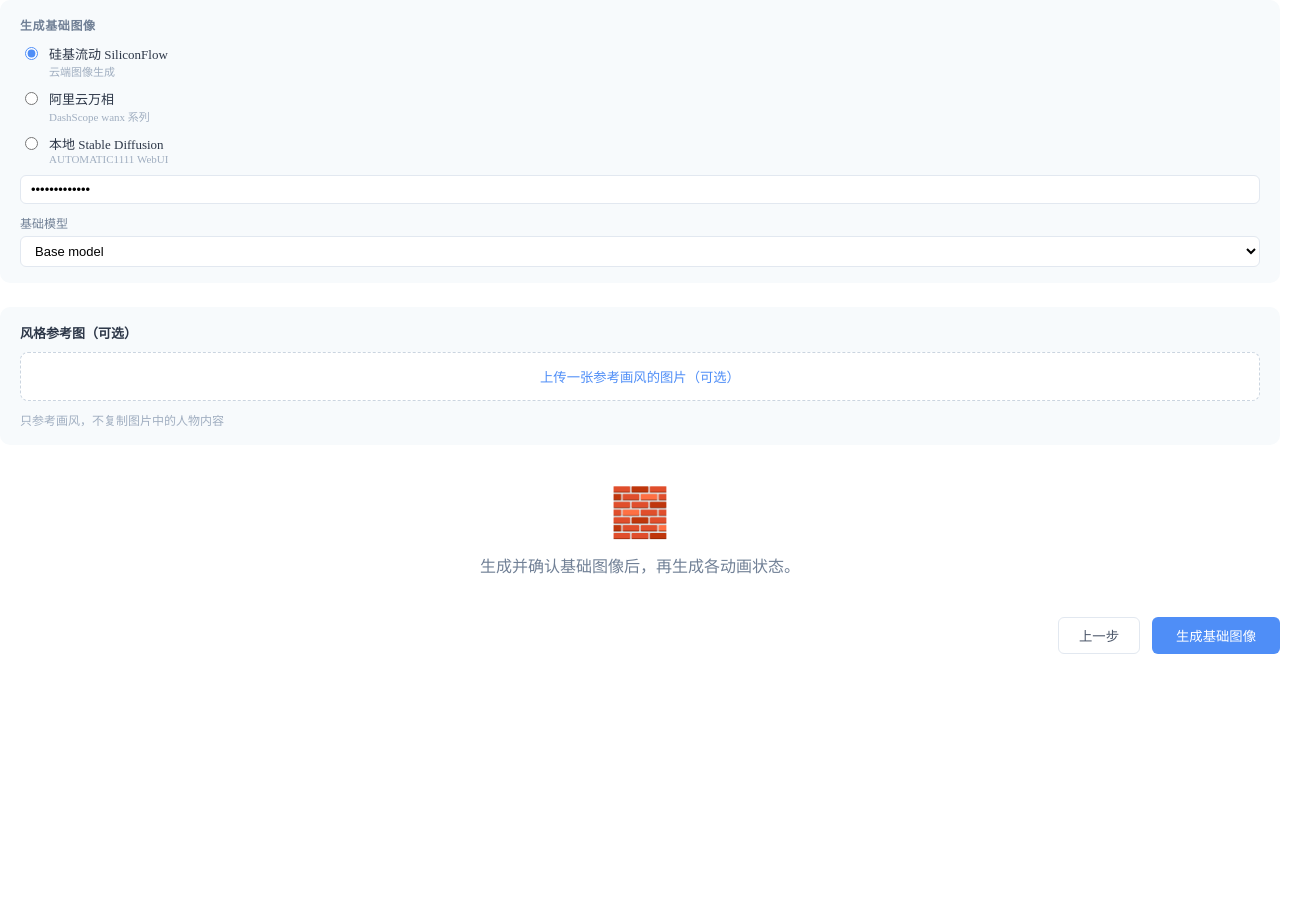
Test: GenerateStep › keeps the error visible and does not use a fallback command
The image size is (1292, 900).
Click the button "生成基础图像": (1216, 636) [1152, 617, 1280, 654]
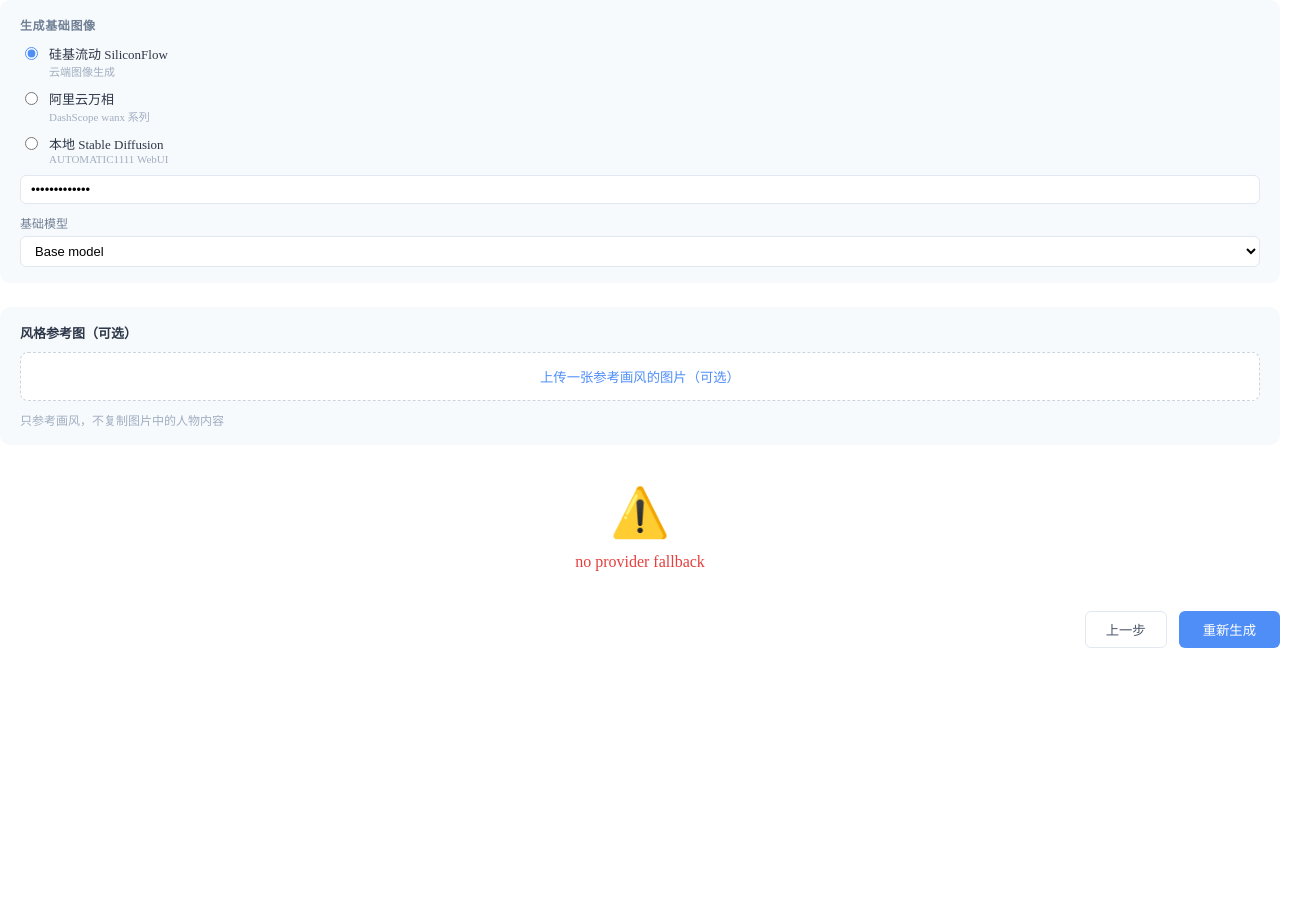
Now the text "no provider fallback" is shown, box [575, 553, 705, 571]
Now the button "重新生成" is shown, box [1179, 611, 1280, 648]
